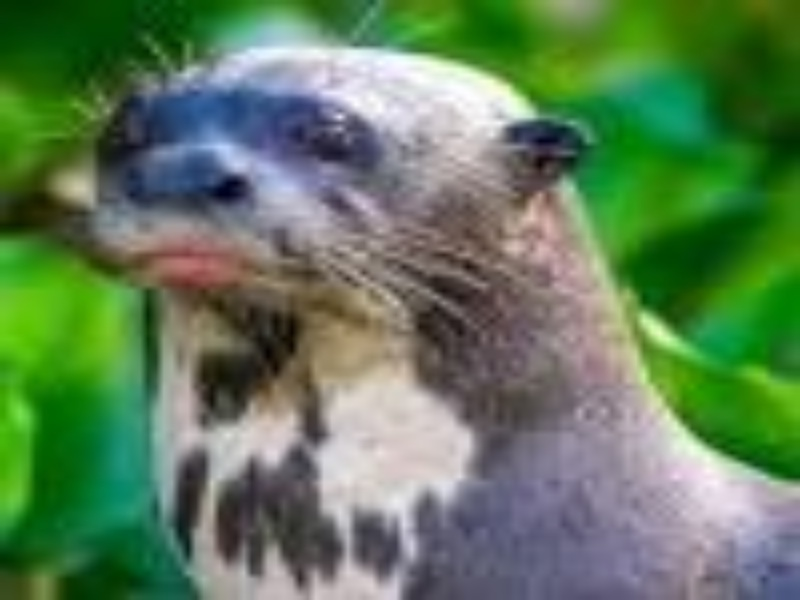minkish: (92, 42, 795, 600)
